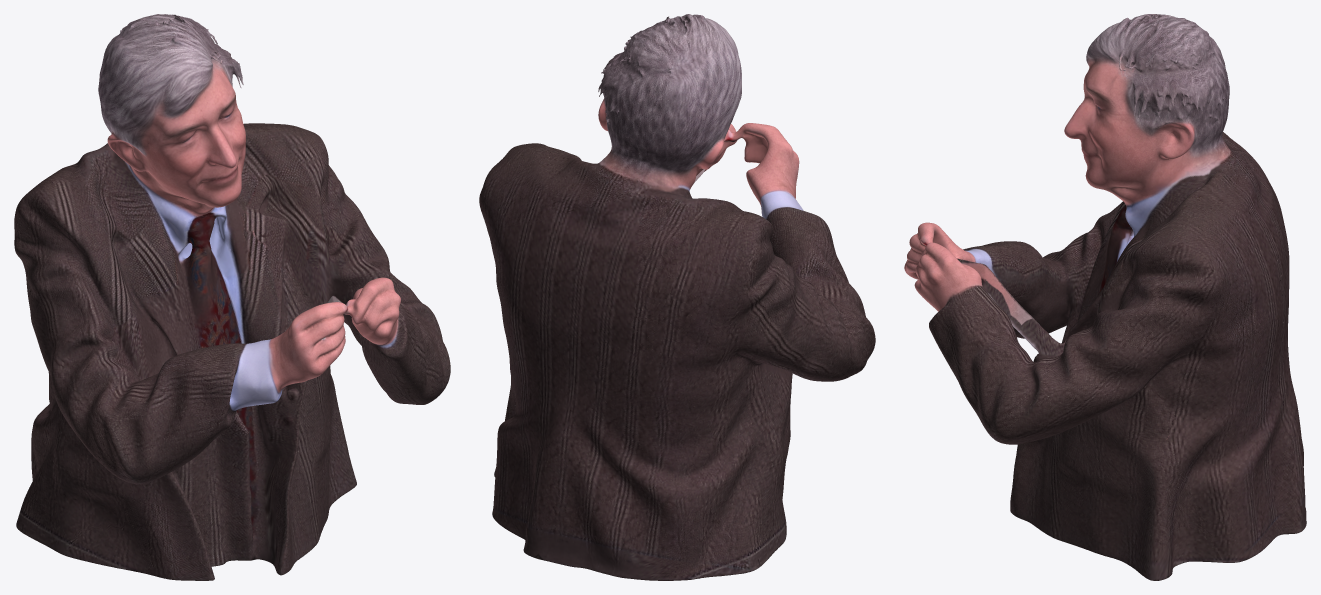
Rendered from john.glb.
The picture shows the model from 3 angles, left to right: view 1: azimuth 30°, elevation 25°; view 2: azimuth 150°, elevation 25°; view 3: azimuth 270°, elevation 25°; orthographic projection. The views are drawn at different scales.
Bounding box in the file's own units: 1.35 × 1.9 × 1.45.
1 material, 1 textured.
